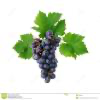grape leaf: (31, 10, 68, 37), (59, 32, 90, 60), (10, 32, 36, 61)
